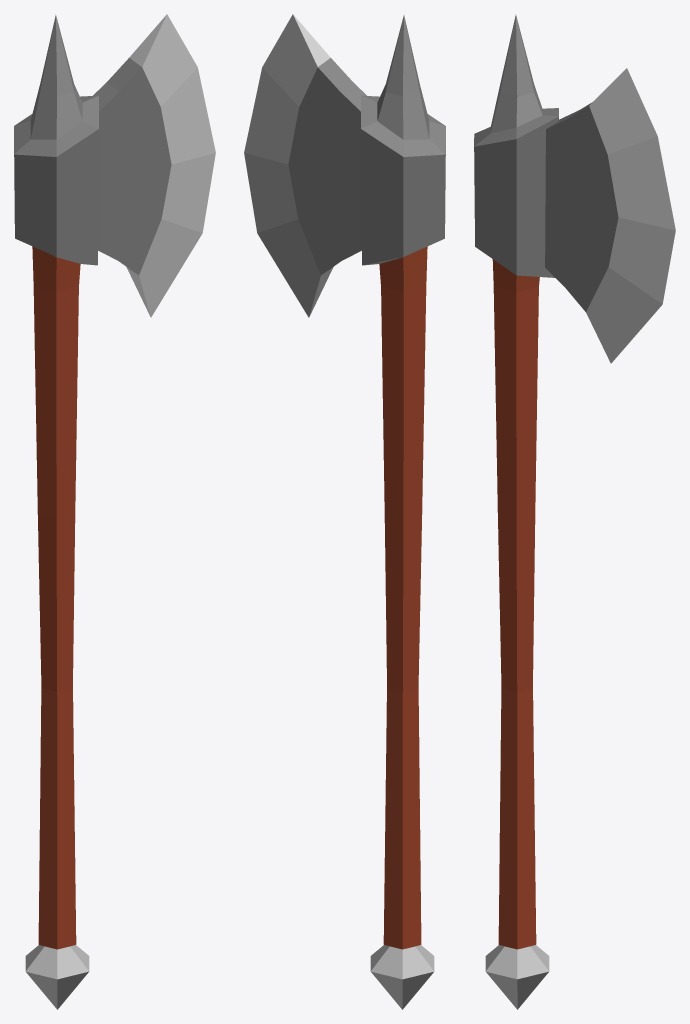
Rendered from Weapon_H.fbx.
3 renders of one model, left to right at view 1: azimuth 30°, elevation 25°; view 2: azimuth 150°, elevation 25°; view 3: azimuth 330°, elevation 25°, orthographic.
Parts seen in each view (by area): view 1: Weapon_H; view 2: Weapon_H; view 3: Weapon_H.
Part boxes in pixels (x1,y1,x2,y2): Weapon_H: (14,14,215,1009); Weapon_H: (244,14,445,1009); Weapon_H: (474,14,675,1009).
Bounding box in the file's own units: 39.55 × 187 × 14.46.
